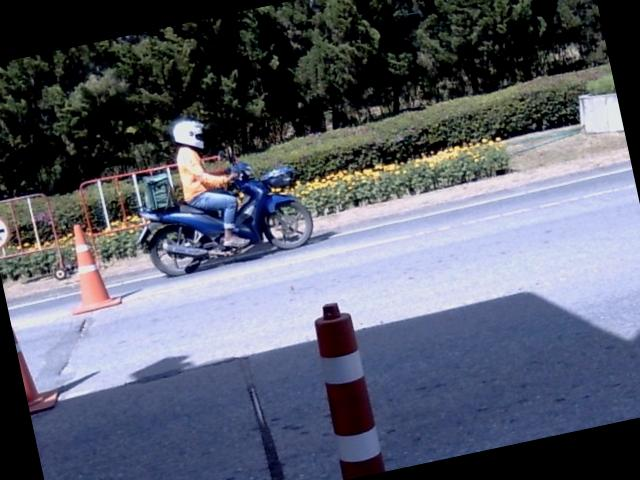helmet: (171, 118, 202, 148)
motor: (137, 203, 248, 276), (229, 162, 312, 249)
person: (171, 119, 248, 246)
